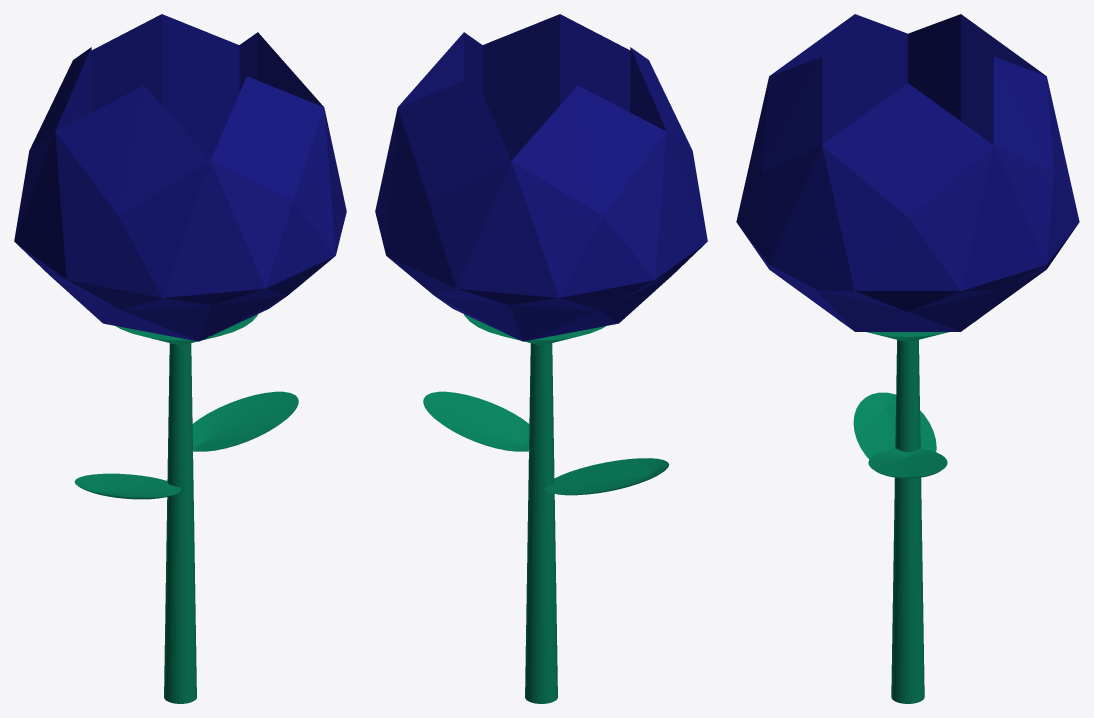
The model's file is flower.glb.
3 views of the same model, side by side, from view 1: azimuth 30°, elevation 25°; view 2: azimuth 150°, elevation 25°; view 3: azimuth 270°, elevation 25° (orthographic).
Parts seen in each view (by area): view 1: Icosphere, Cylinder, Sphere.001, Sphere, Cone; view 2: Icosphere, Cylinder, Sphere.001, Sphere, Cone; view 3: Icosphere, Cylinder, Sphere, Sphere.001.
Part boxes in pixels (<box>): Icosphere: <box>14,14,346,341</box>; Cylinder: <box>164,343,196,703</box>; Sphere.001: <box>191,391,298,451</box>; Sphere: <box>74,473,180,499</box>; Cone: <box>116,314,257,344</box>; Icosphere: <box>375,14,707,341</box>; Cylinder: <box>525,343,557,703</box>; Sphere.001: <box>423,391,530,451</box>; Sphere: <box>544,458,669,495</box>; Cone: <box>464,314,605,344</box>; Icosphere: <box>736,14,1079,331</box>; Cylinder: <box>891,340,924,703</box>; Sphere: <box>853,392,936,459</box>; Sphere.001: <box>868,448,947,478</box>.
Size of the model in its own units: 0.6959 by 1.53 by 0.7317.
